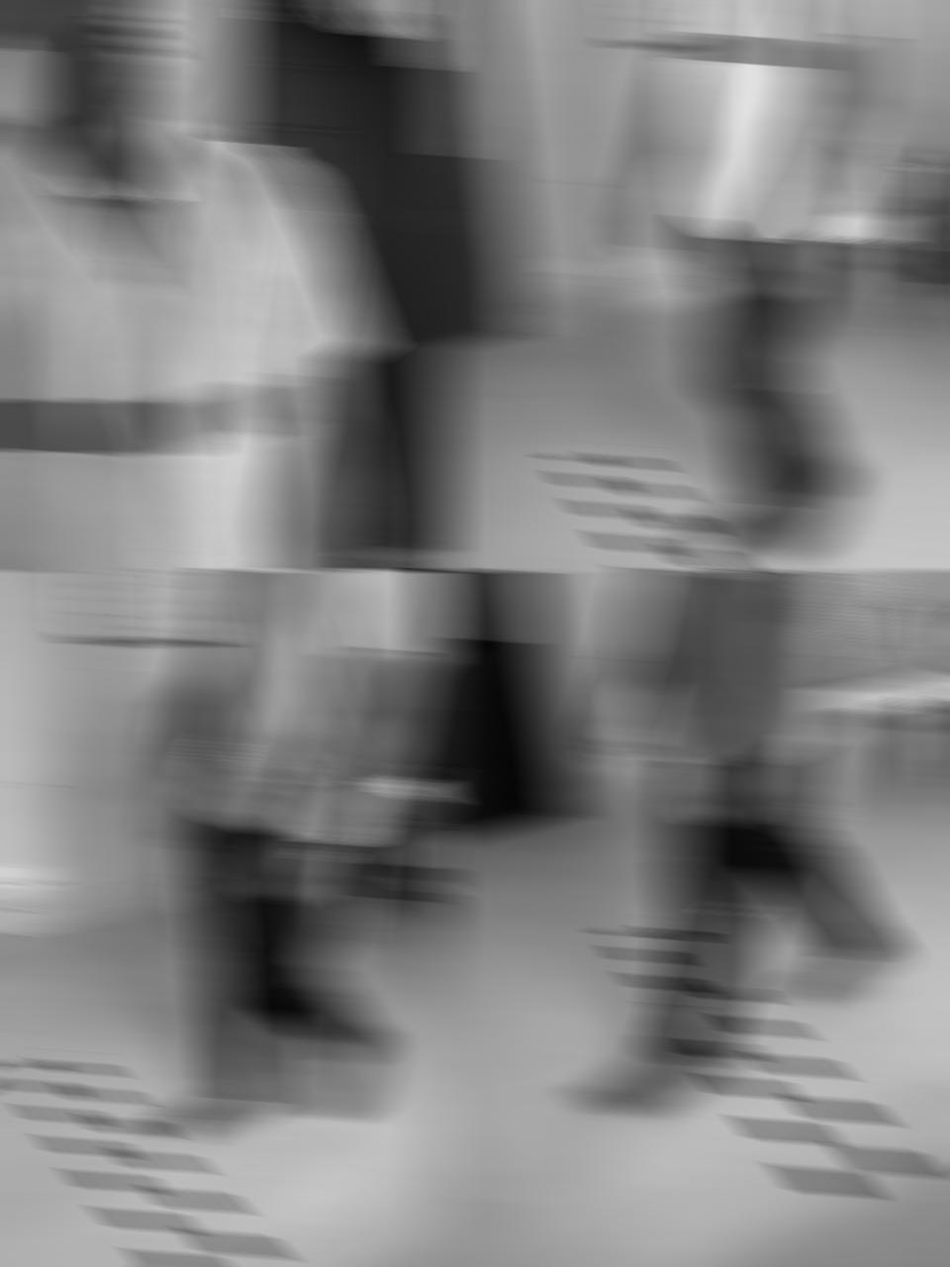BorderLine: (610, 918, 930, 1206), (5, 1045, 328, 1267), (555, 439, 885, 571)
No_Helmet: (0, 0, 200, 127)
No_Vest: (191, 570, 423, 846)
Person: (0, 0, 383, 570), (578, 570, 901, 1121), (147, 570, 422, 1145), (622, 0, 899, 557)
Vest: (0, 107, 330, 570), (671, 0, 899, 242), (628, 570, 839, 766)
